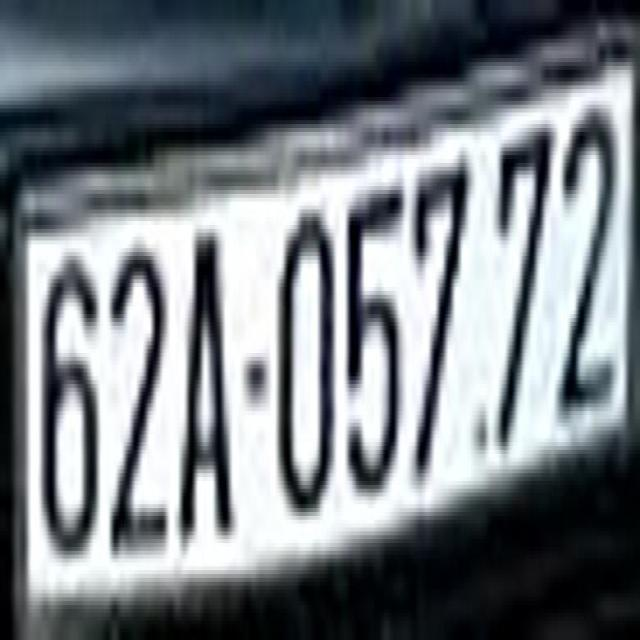0: (274, 209, 336, 516)
2: (560, 101, 622, 407), (110, 256, 170, 562)
5: (342, 190, 404, 508)
6: (38, 252, 100, 551)
7: (410, 148, 468, 474), (494, 143, 554, 454)
A: (178, 233, 231, 547)
